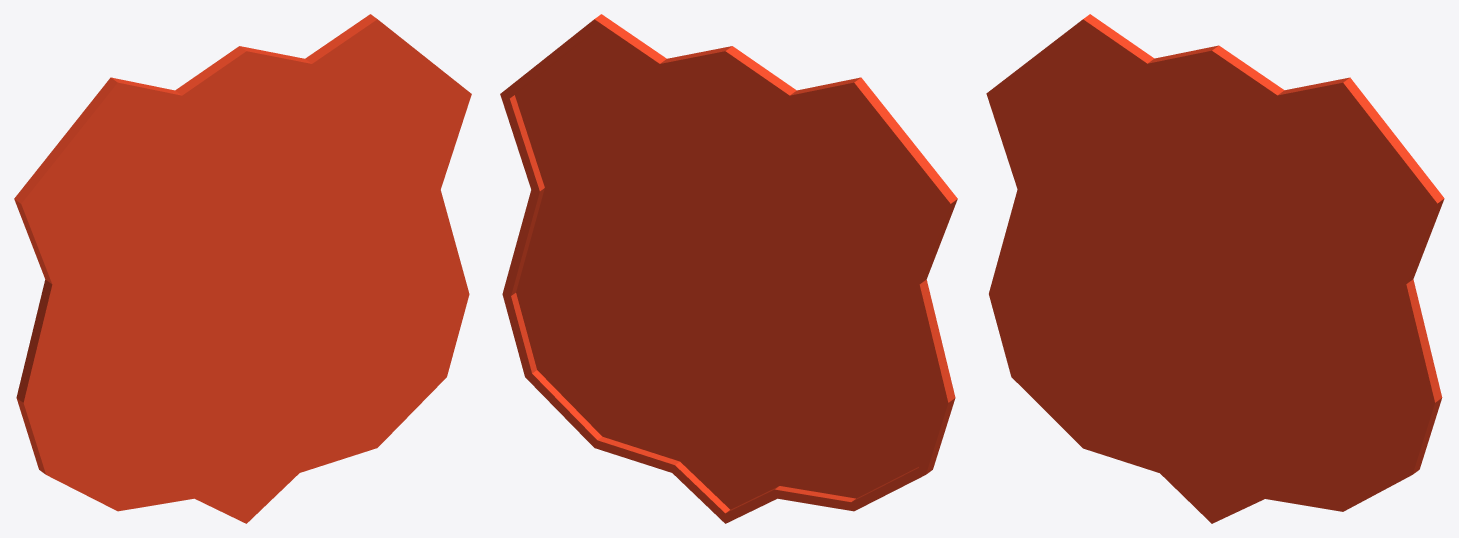
Rendered from SM_Sign_Route_A_City.fbx.
3 views of the same model, side by side, from view 1: azimuth 30°, elevation 25°; view 2: azimuth 150°, elevation 25°; view 3: azimuth 330°, elevation 25° (orthographic).
Parts seen in each view (by area): view 1: SM_Sign_Route_A_City; view 2: SM_Sign_Route_A_City; view 3: SM_Sign_Route_A_City.
Boxes of the visible parts, box(x1,y1,x2,y2) form: SM_Sign_Route_A_City: box(14, 14, 471, 523); SM_Sign_Route_A_City: box(500, 14, 957, 523); SM_Sign_Route_A_City: box(986, 14, 1444, 523).
Bounding box in the file's own units: 0.8358 × 0.8379 × 0.0229.
